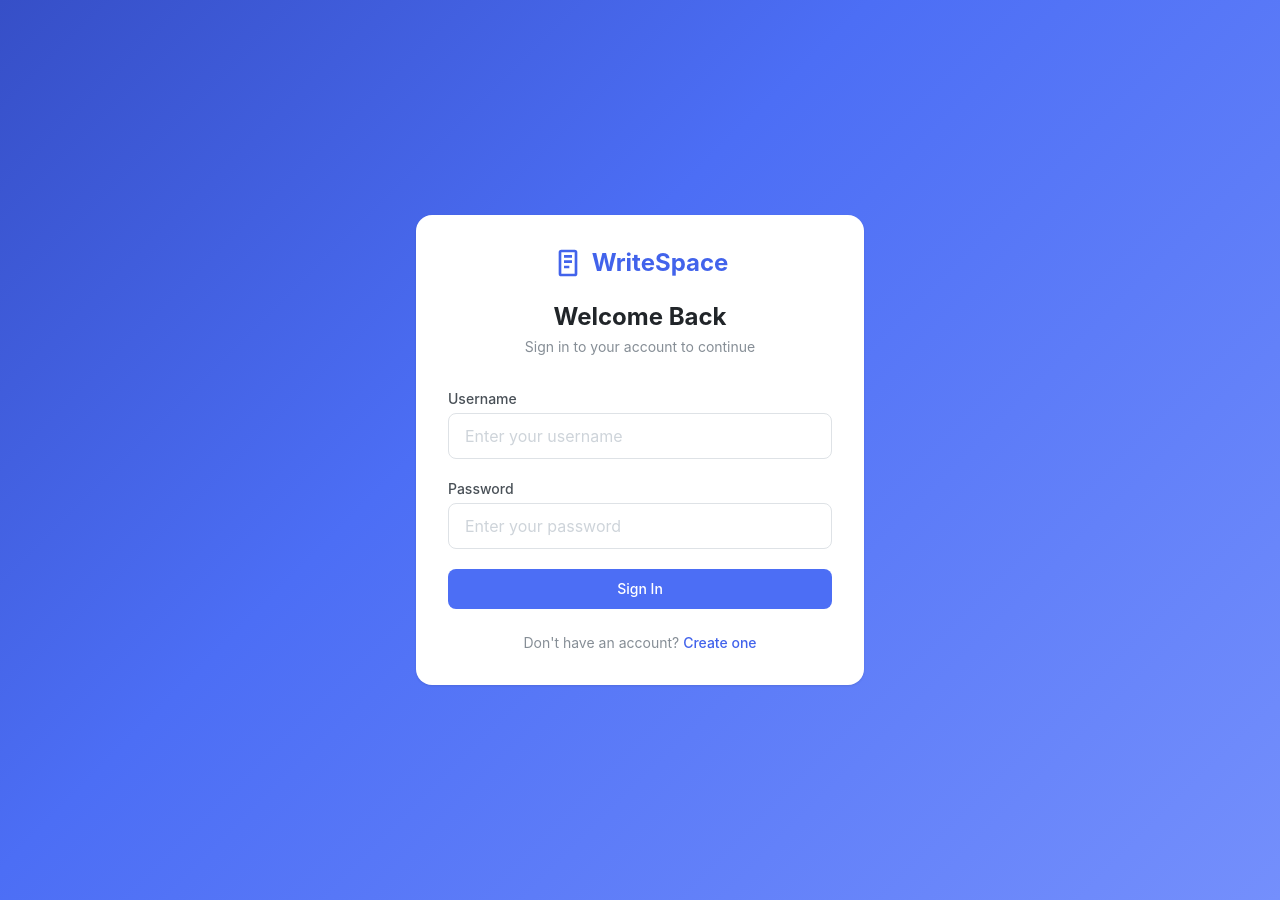
Test case: LoginPage › failed login › displays an error message when login fails with invalid credentials
Type "wrong" into the field labelled "Username" at (640, 436), box [448,413,832,459]
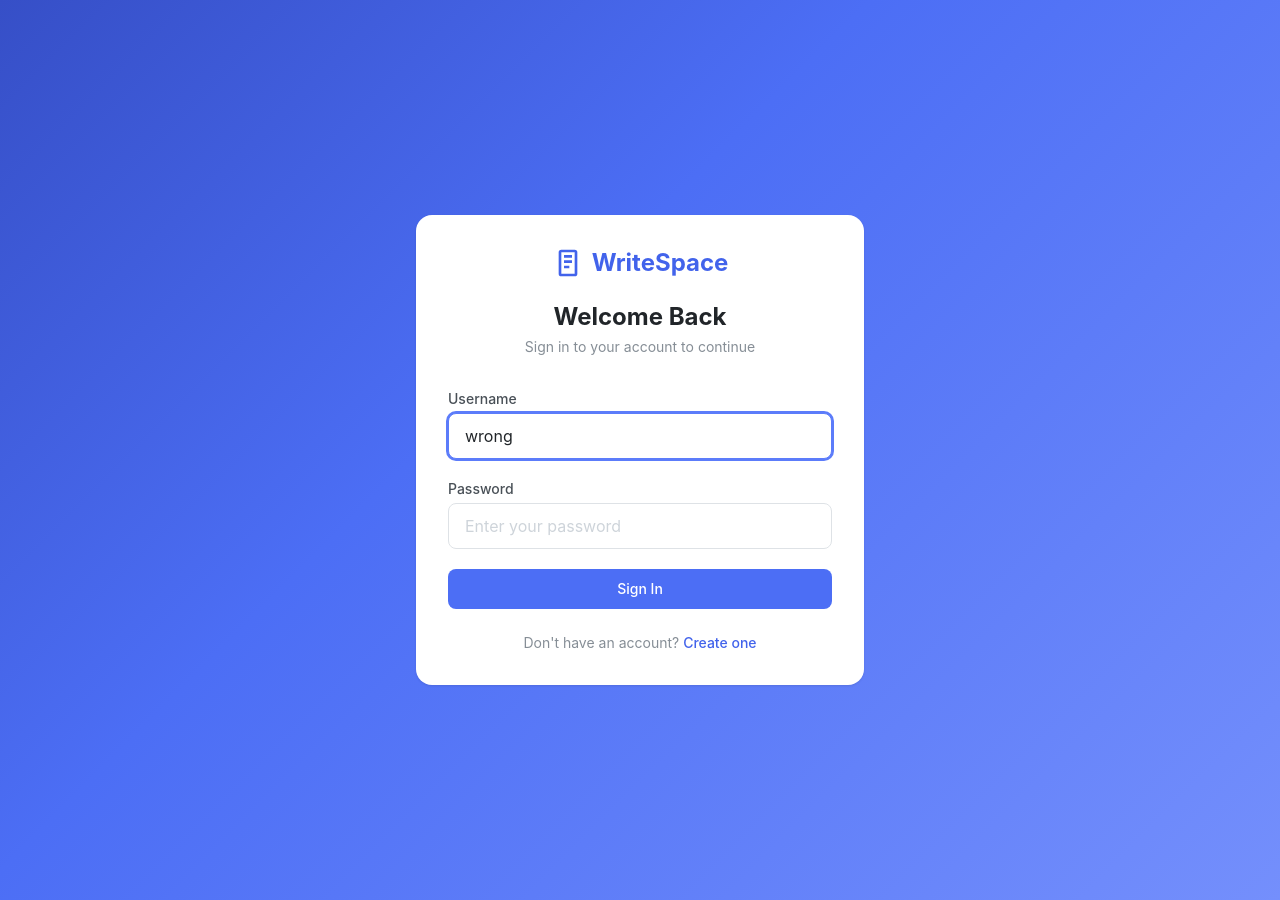
Type "wrongpass" into the password field labelled "Password" at (640, 526), box [448,503,832,549]
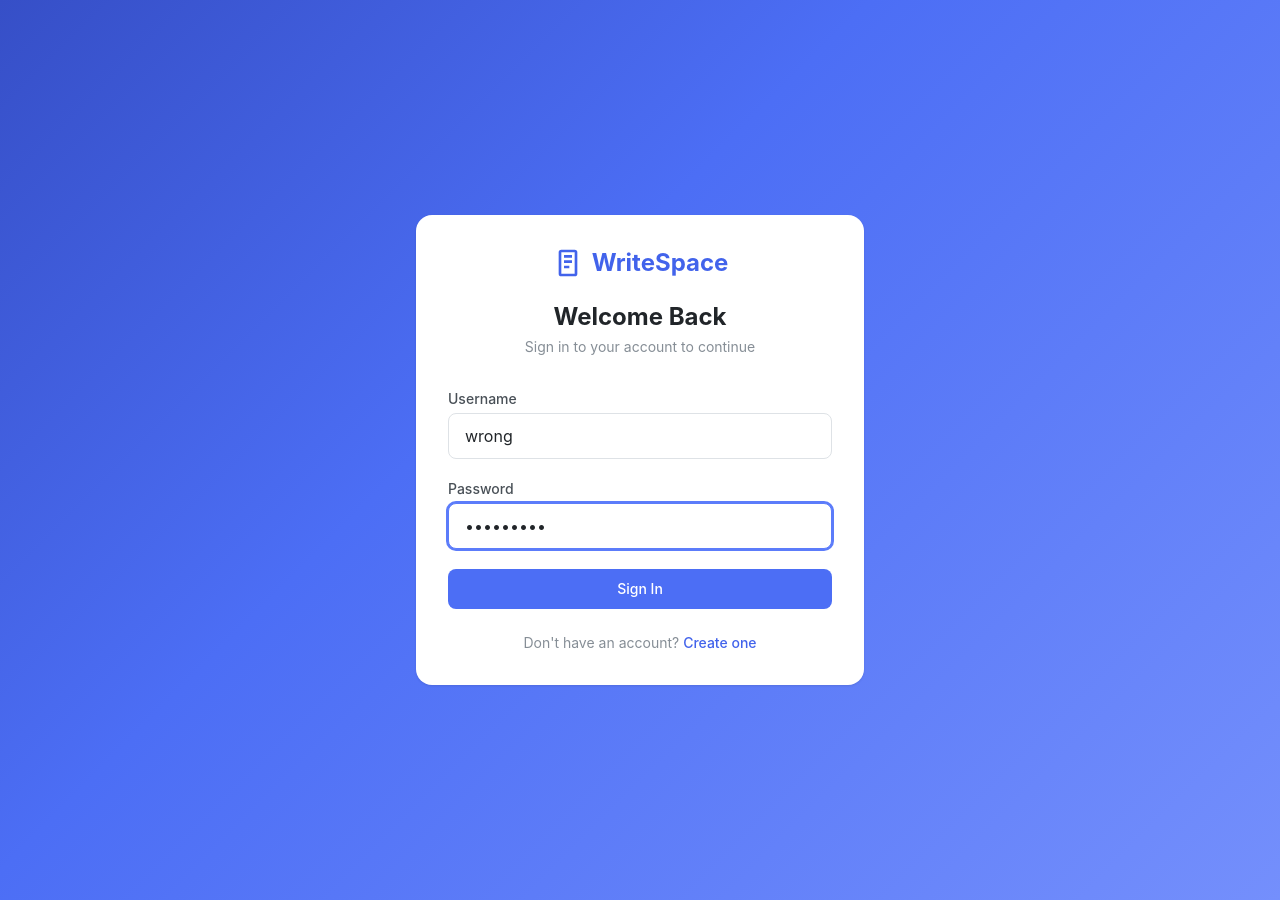
Click the button "Sign In" at (640, 589), box [448,569,832,609]
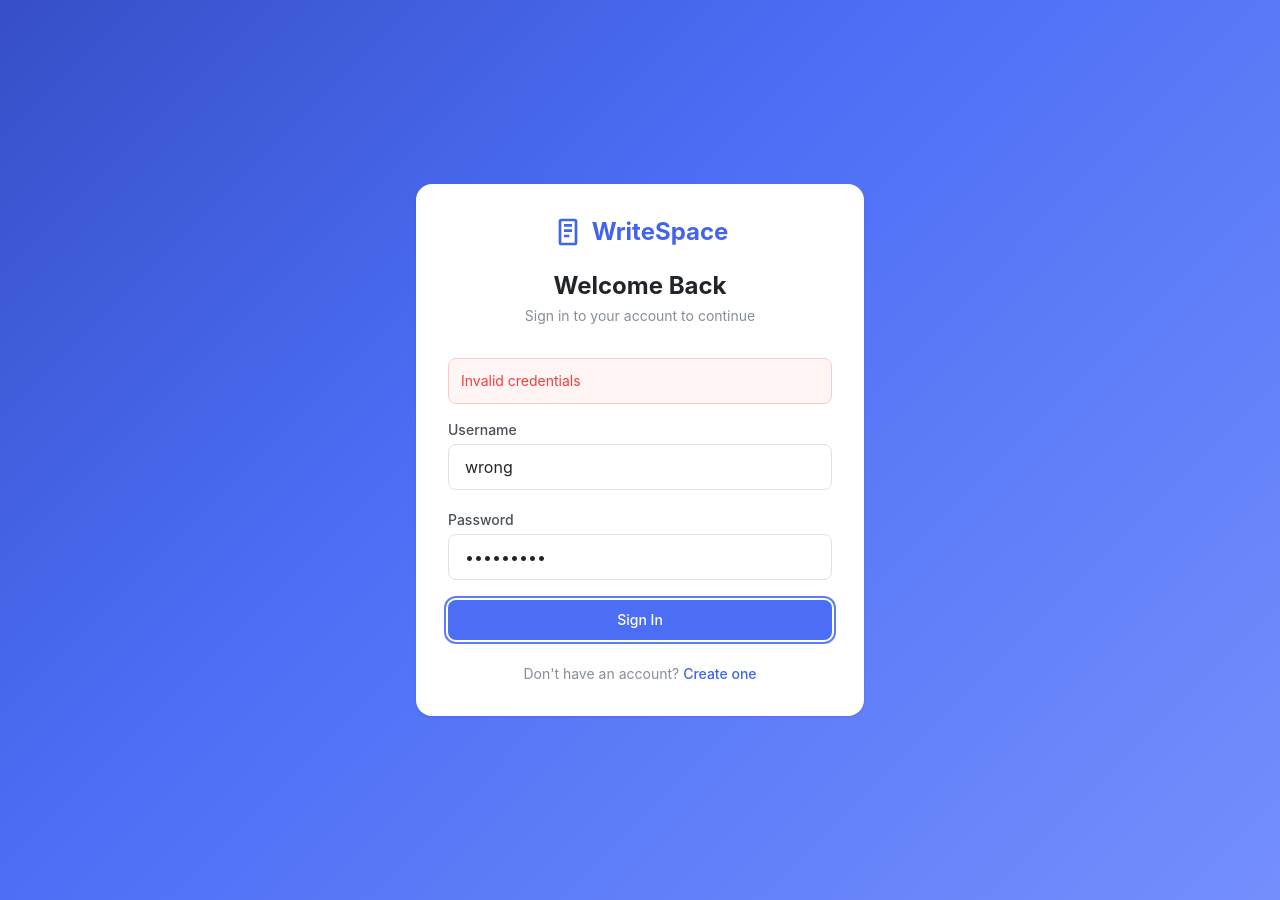
Expected: the message reads "Invalid credentials", [461,372,581,389]
